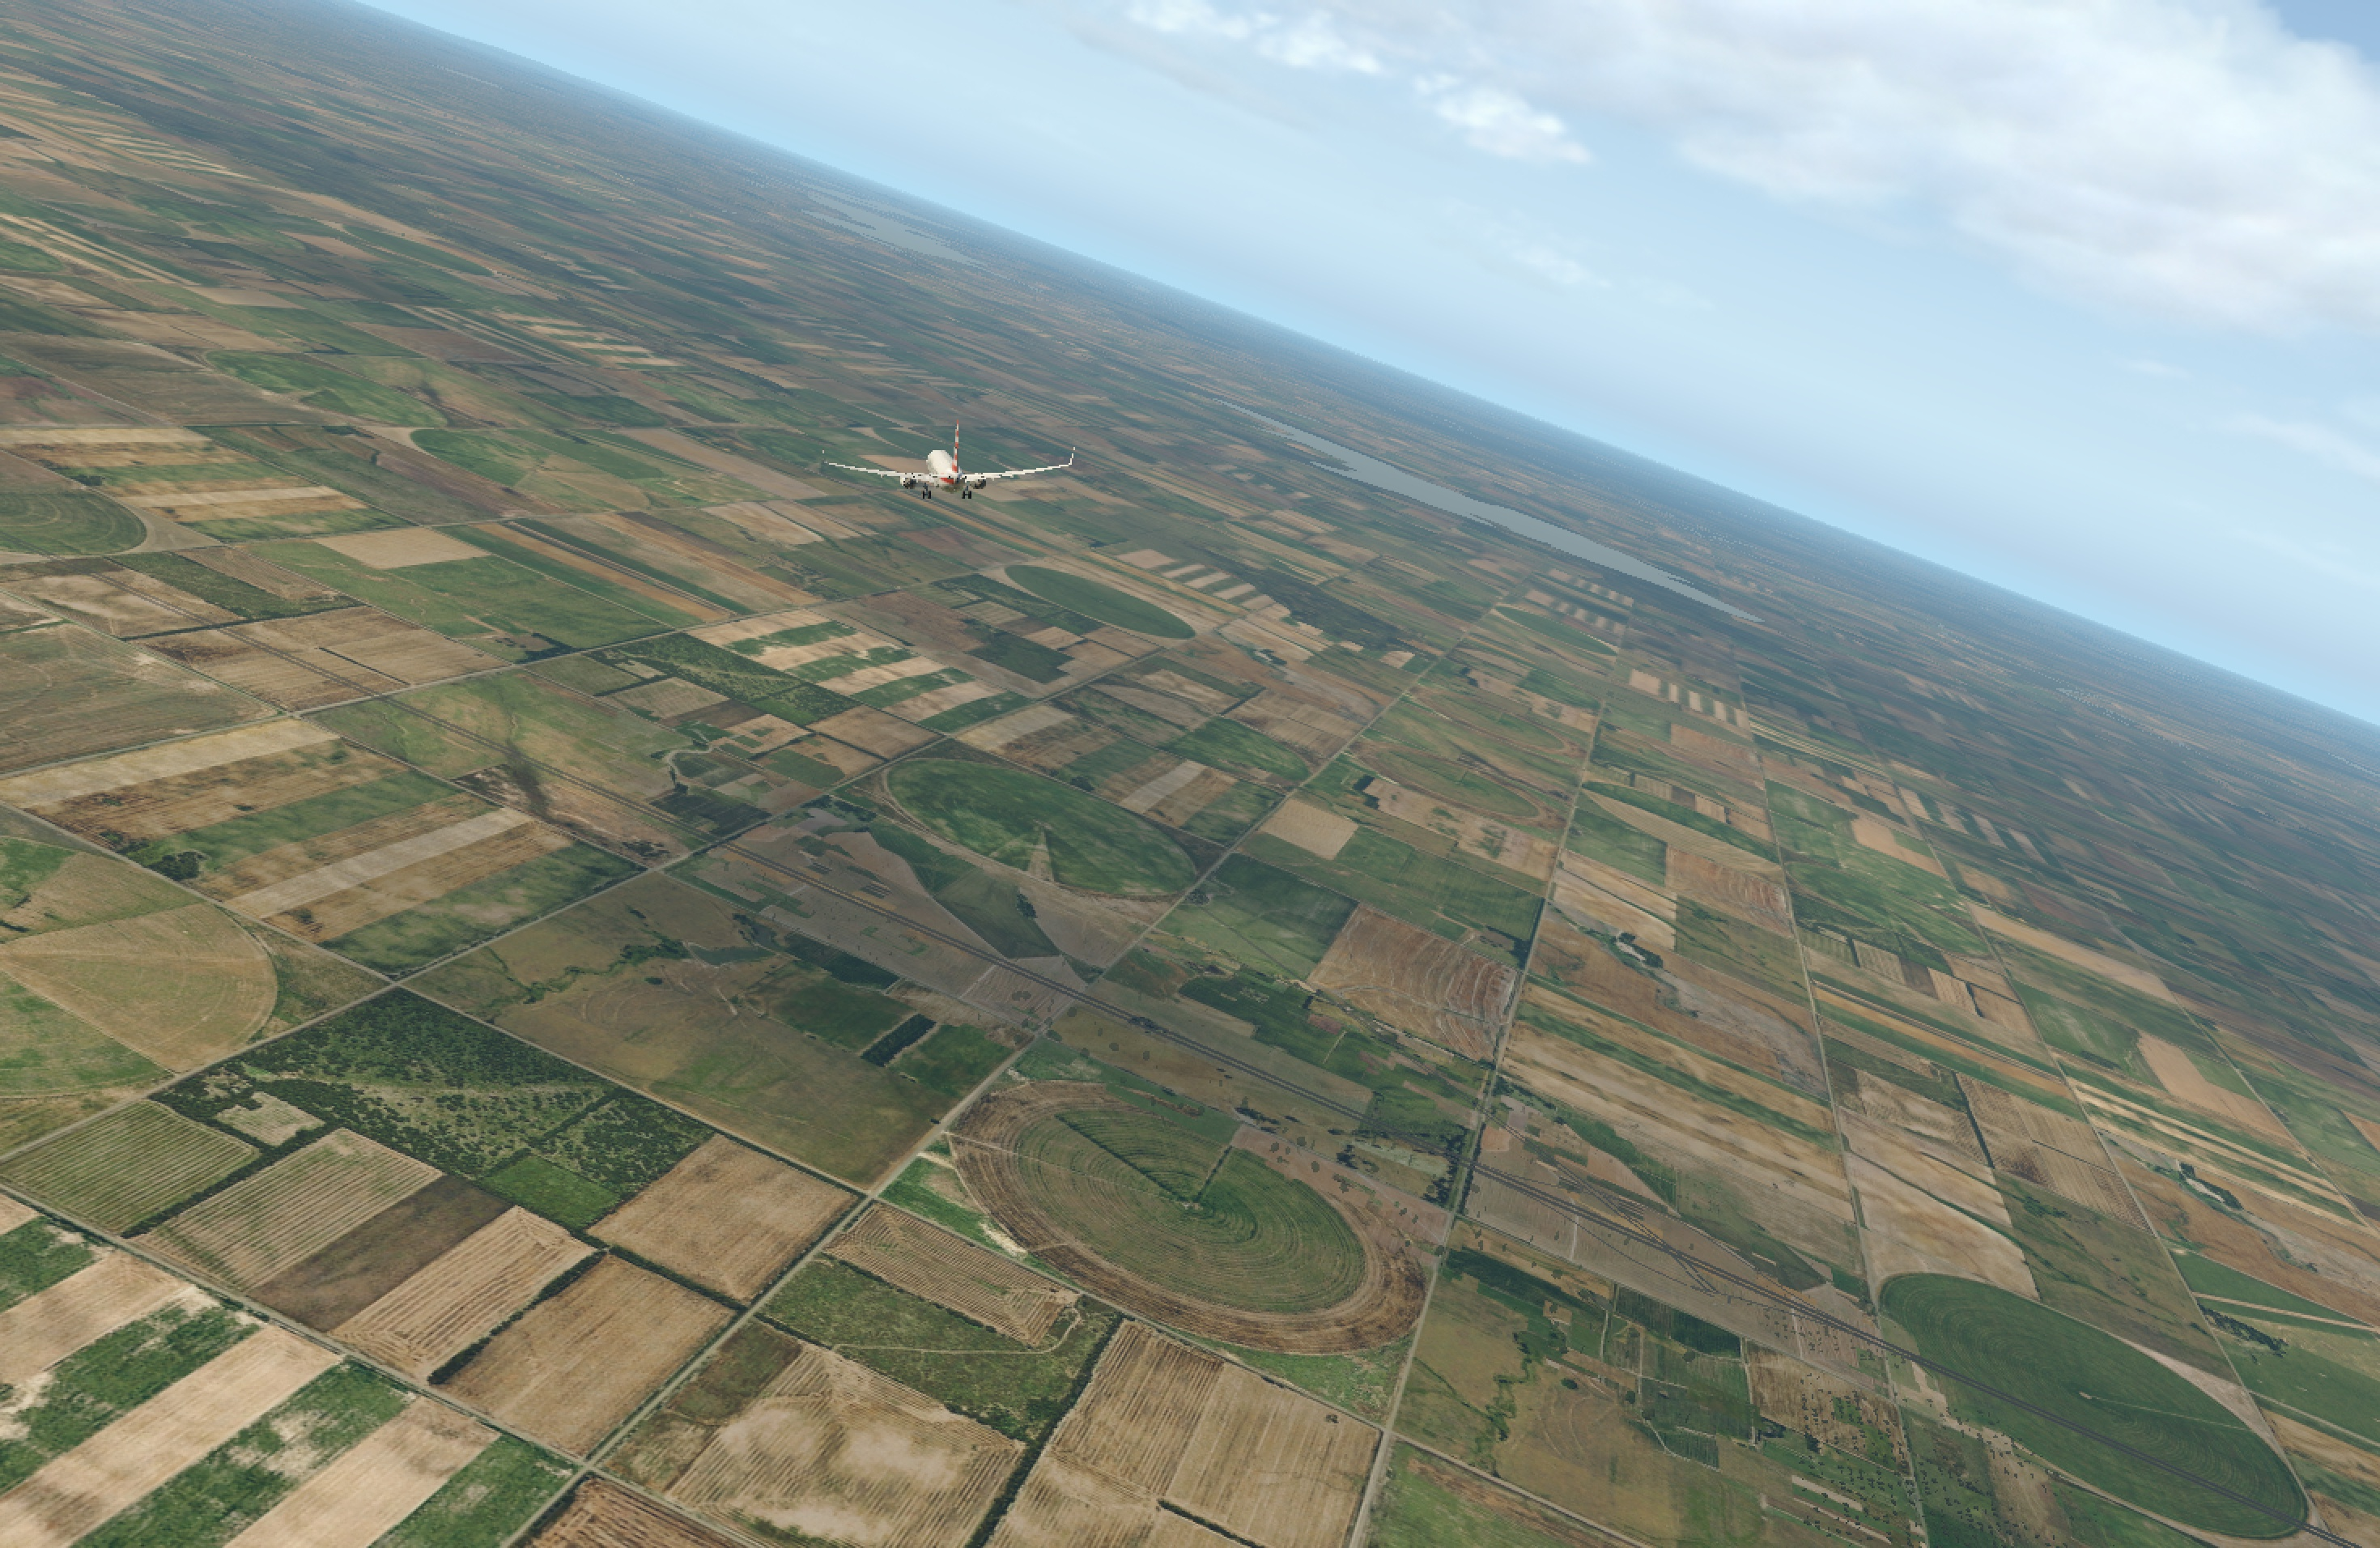aircraft: (810, 425, 1082, 528)
